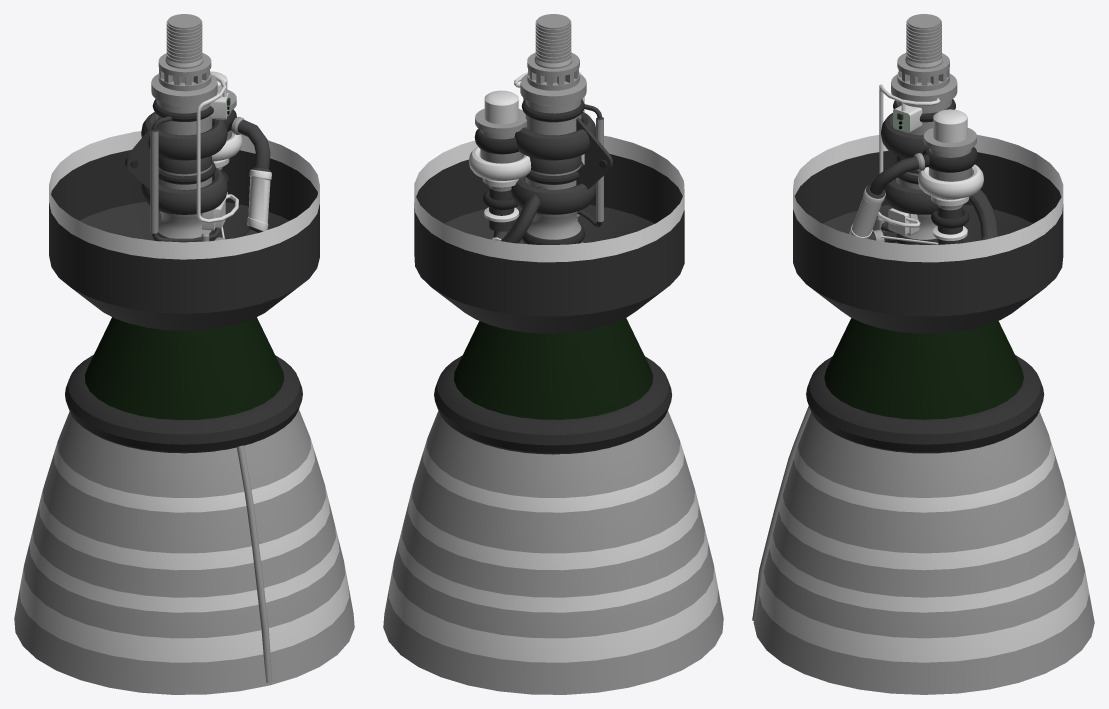
The model's file is rvac.glb.
The picture shows the model from 3 angles, left to right: view 1: azimuth 30°, elevation 25°; view 2: azimuth 150°, elevation 25°; view 3: azimuth 270°, elevation 25°; orthographic projection.
Visible parts, largest first — view 1: Raptor 2 Vaccum Engine; view 2: Raptor 2 Vaccum Engine; view 3: Raptor 2 Vaccum Engine.
Part boxes in pixels (bbox=[...]): Raptor 2 Vaccum Engine: bbox=[14, 14, 354, 694]; Raptor 2 Vaccum Engine: bbox=[383, 14, 723, 694]; Raptor 2 Vaccum Engine: bbox=[752, 14, 1094, 694].
Size of the model in its own units: 11.79 by 22.95 by 11.84.
